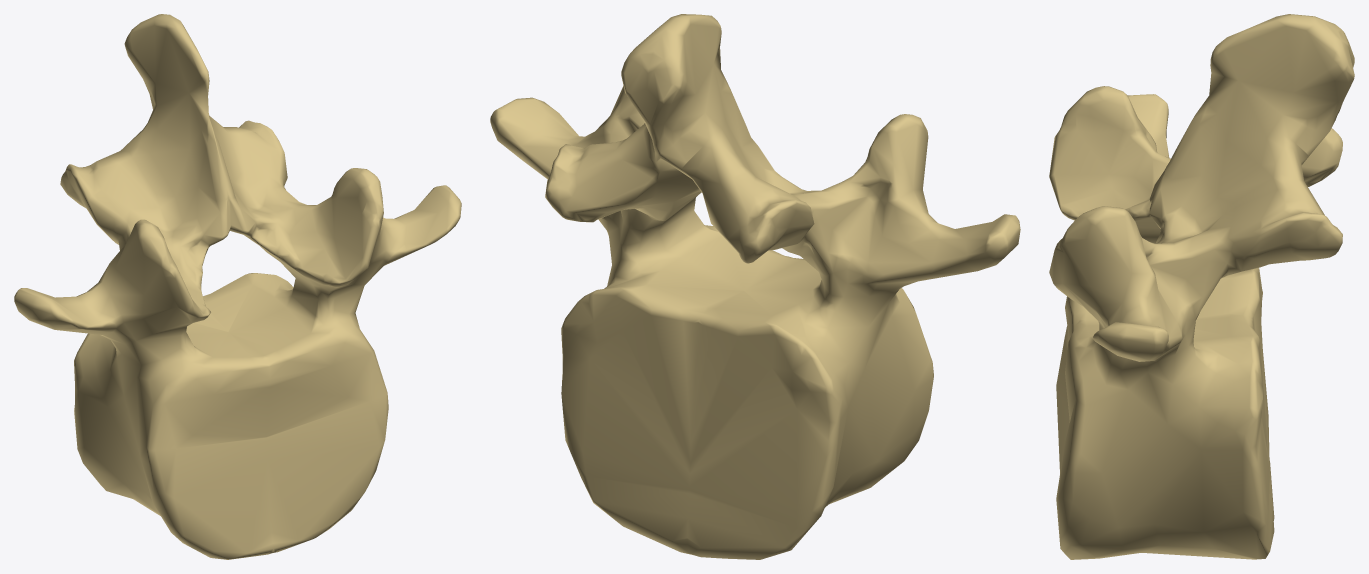
3 views of the same model, side by side, from view 1: azimuth 30°, elevation 25°; view 2: azimuth 150°, elevation 25°; view 3: azimuth 270°, elevation 25° (orthographic). The views are drawn at different scales.
Parts seen in each view (by area): view 1: 第三腰椎; view 2: 第三腰椎; view 3: 第三腰椎.
Part boxes in pixels (x1,y1,x2,y2): 第三腰椎: (14,14,461,559); 第三腰椎: (490,14,1020,559); 第三腰椎: (1049,14,1354,559).
Bounding box in the file's own units: 0.123 × 0.1252 × 0.0659.
